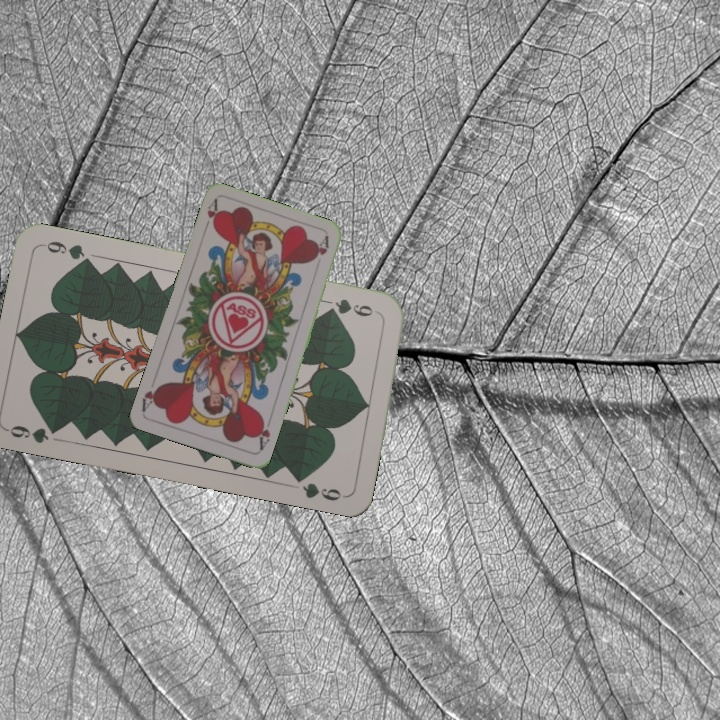G9: (322, 294, 382, 320), (3, 421, 64, 446)
HA: (199, 196, 223, 236), (253, 413, 274, 453)
